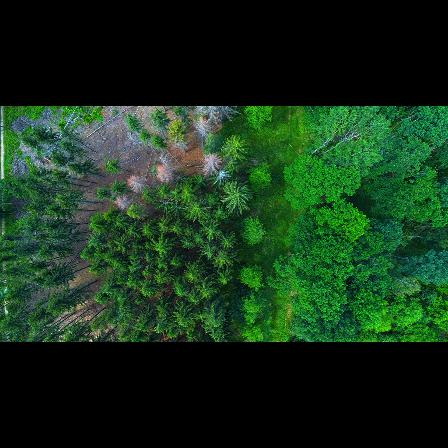Dead: (198, 150, 220, 174), (154, 165, 179, 185), (126, 174, 150, 192), (191, 117, 209, 138), (215, 166, 231, 183), (114, 197, 133, 208)
